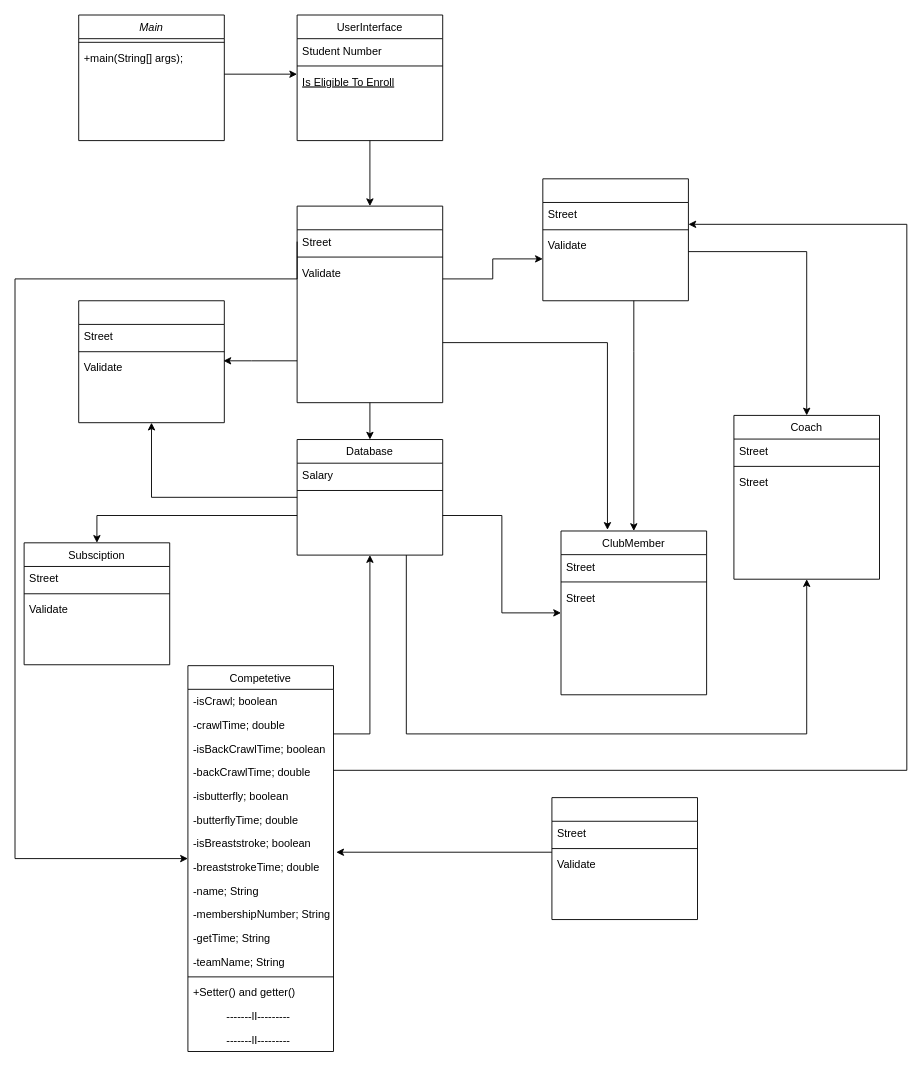
This 922x1067 diagram has some shape labels left out. The shapes that lost their labels are listed below. From the top down, each one's box as (x1, y1, x2, y2) in pixels, then its label:
(542, 178, 688, 301): FileHandler
(296, 205, 443, 403): Controller
(78, 300, 224, 423): Financials
(551, 797, 698, 920): Tournament
